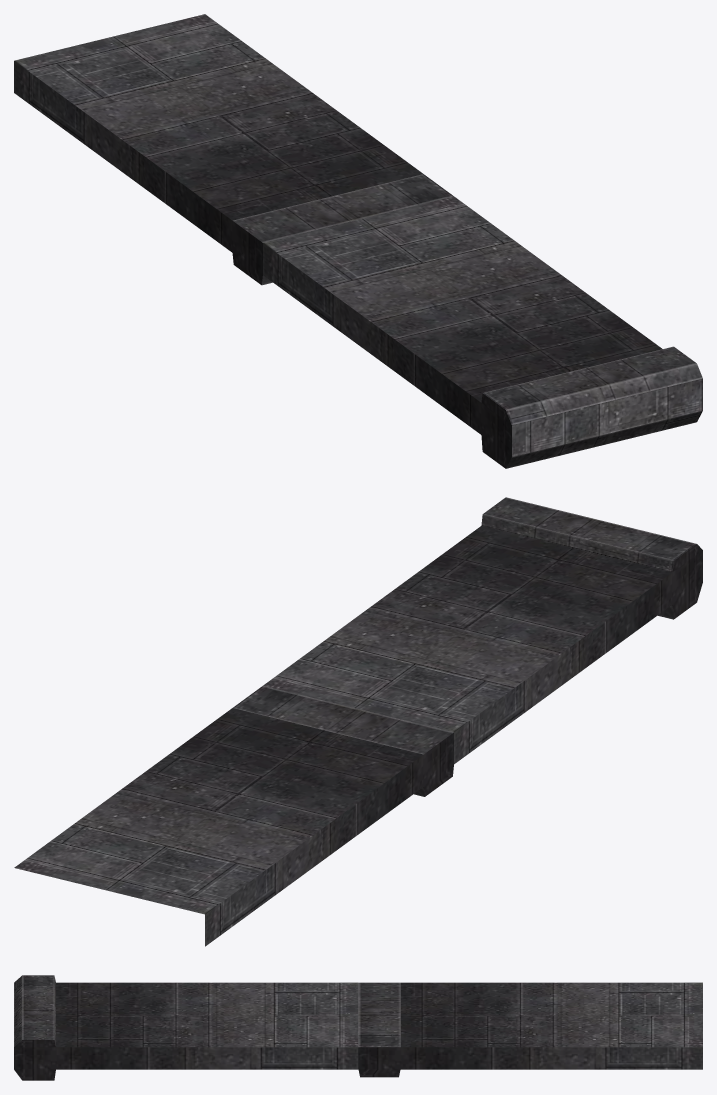
The picture shows the model from 3 angles, top to bottom: view 1: azimuth 30°, elevation 25°; view 2: azimuth 150°, elevation 25°; view 3: azimuth 270°, elevation 25°; orthographic projection. The views are drawn at different scales.
Parts seen in each view (by area): view 1: model_Object110; view 2: model_Object110; view 3: model_Object110.
Boxes of the visible parts, left/top/right/bottom form: model_Object110: left=14, top=14, right=702, bottom=468; model_Object110: left=14, top=497, right=702, bottom=946; model_Object110: left=14, top=975, right=702, bottom=1080.
Bounding box in the file's own units: 0.8972 × 0.2636 × 4.05.
Materials: 1 (1 with a texture image).
